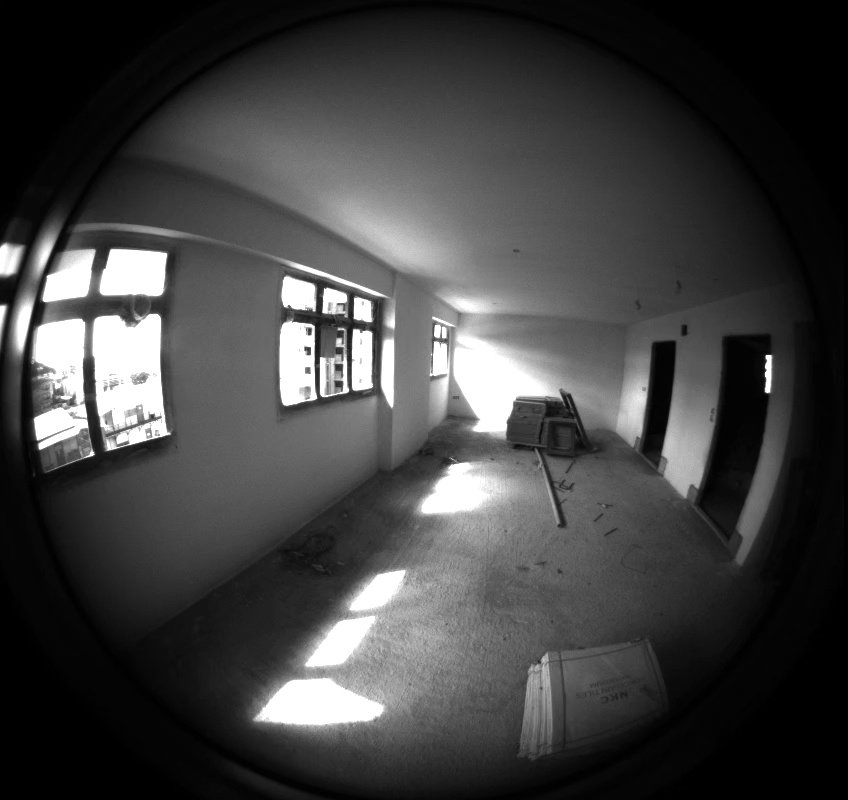Building materials: (149, 120, 665, 759), (35, 39, 576, 455)
Ceiling: (123, 10, 789, 323)
Door: (72, 201, 767, 536), (34, 124, 673, 465)
Floor: (0, 0, 750, 794)
Wall: (171, 115, 623, 429)
Windows: (17, 54, 448, 376), (100, 132, 377, 403), (30, 226, 168, 471)
